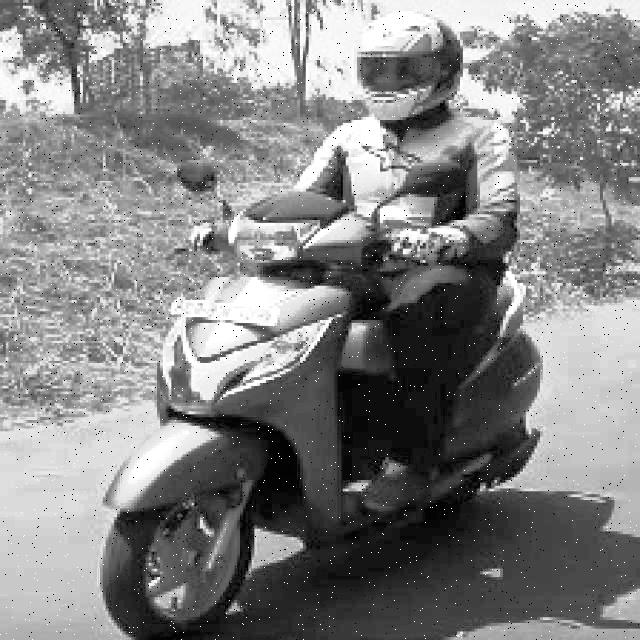Bike: (127, 213, 543, 633)
